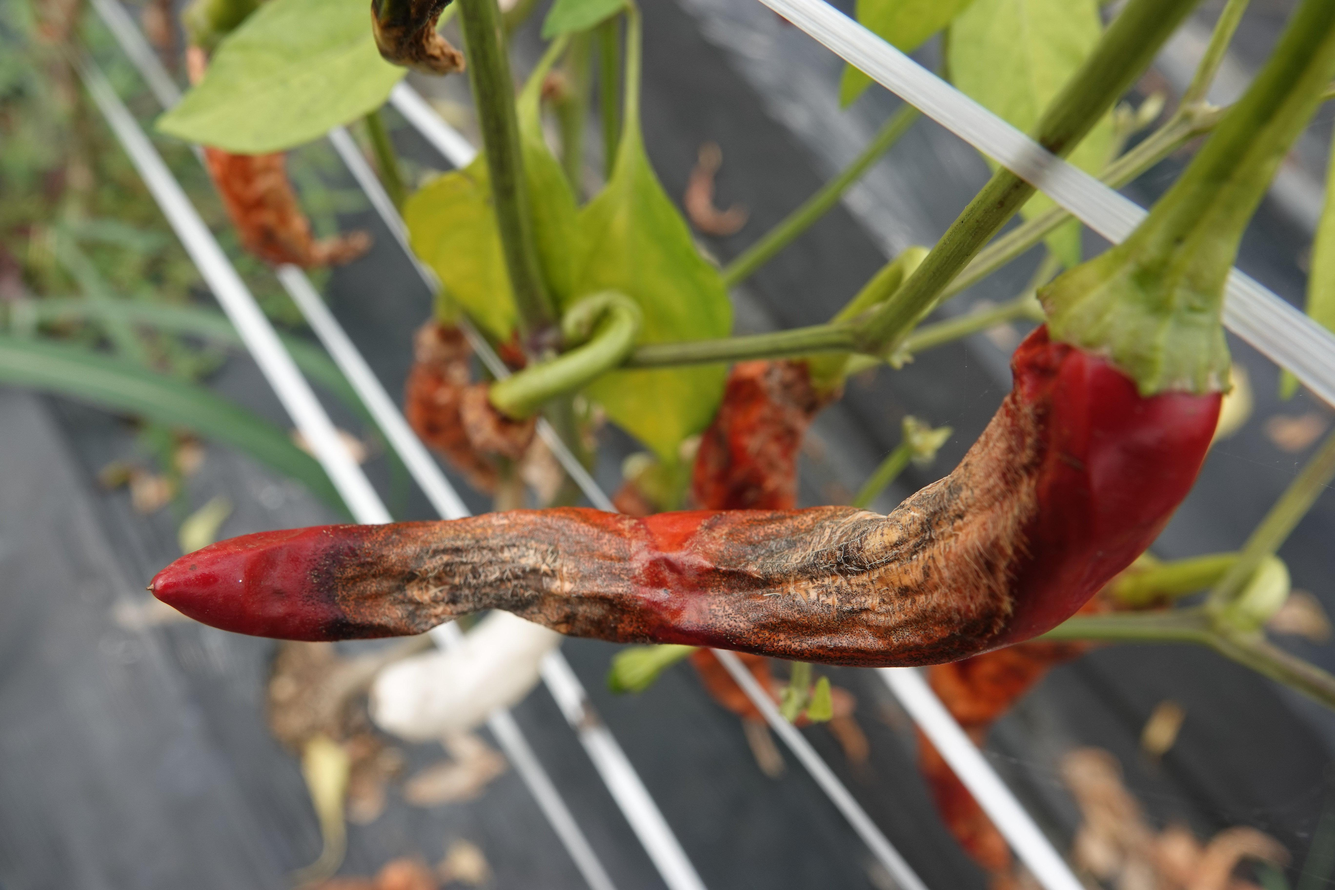Busuk Buah Antraknosa: (145, 306, 1232, 671)
